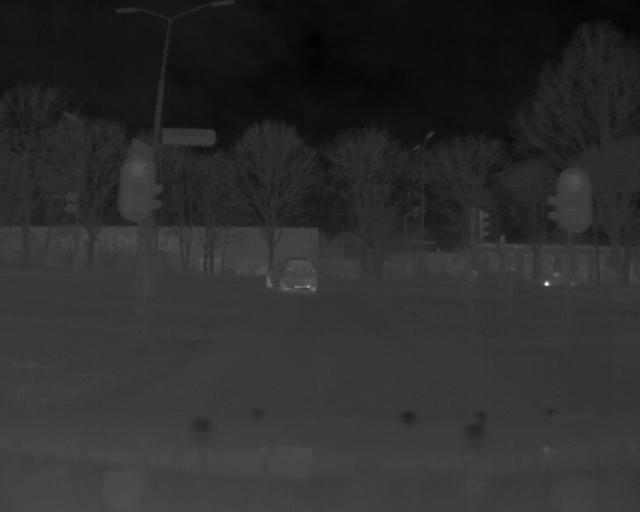car: (264, 255, 321, 293)
